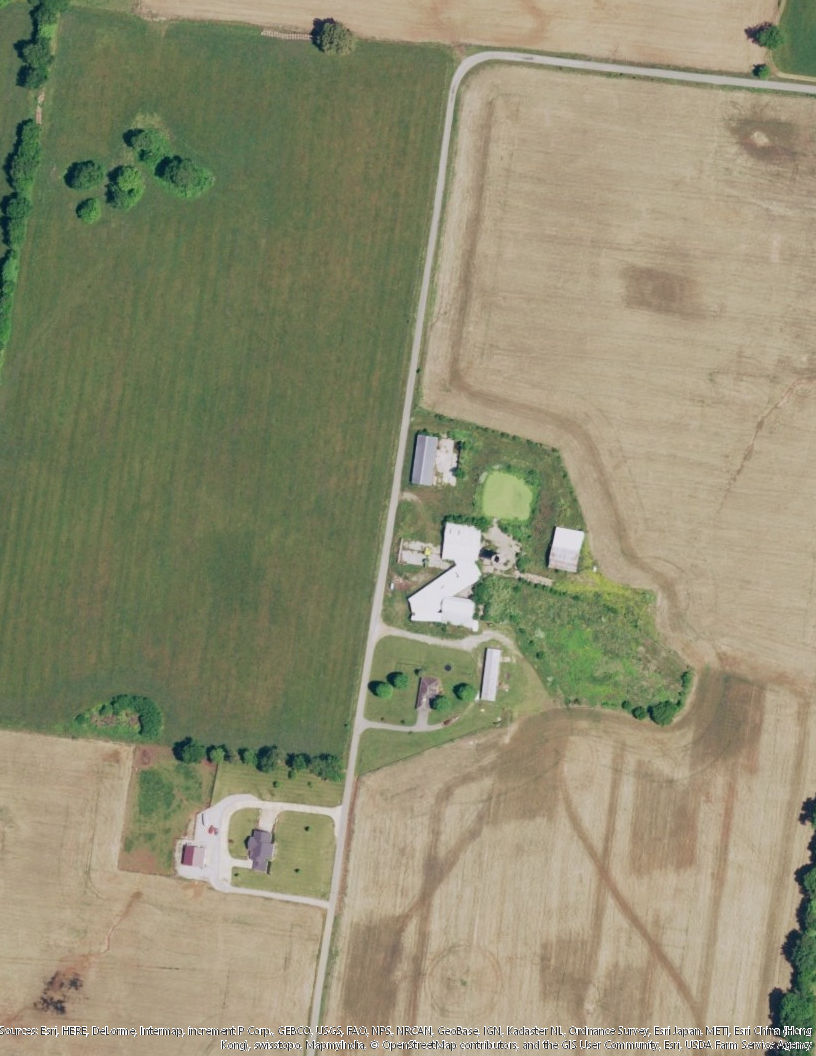cafo: (403, 512, 487, 631), (404, 427, 465, 487), (479, 644, 511, 706)
